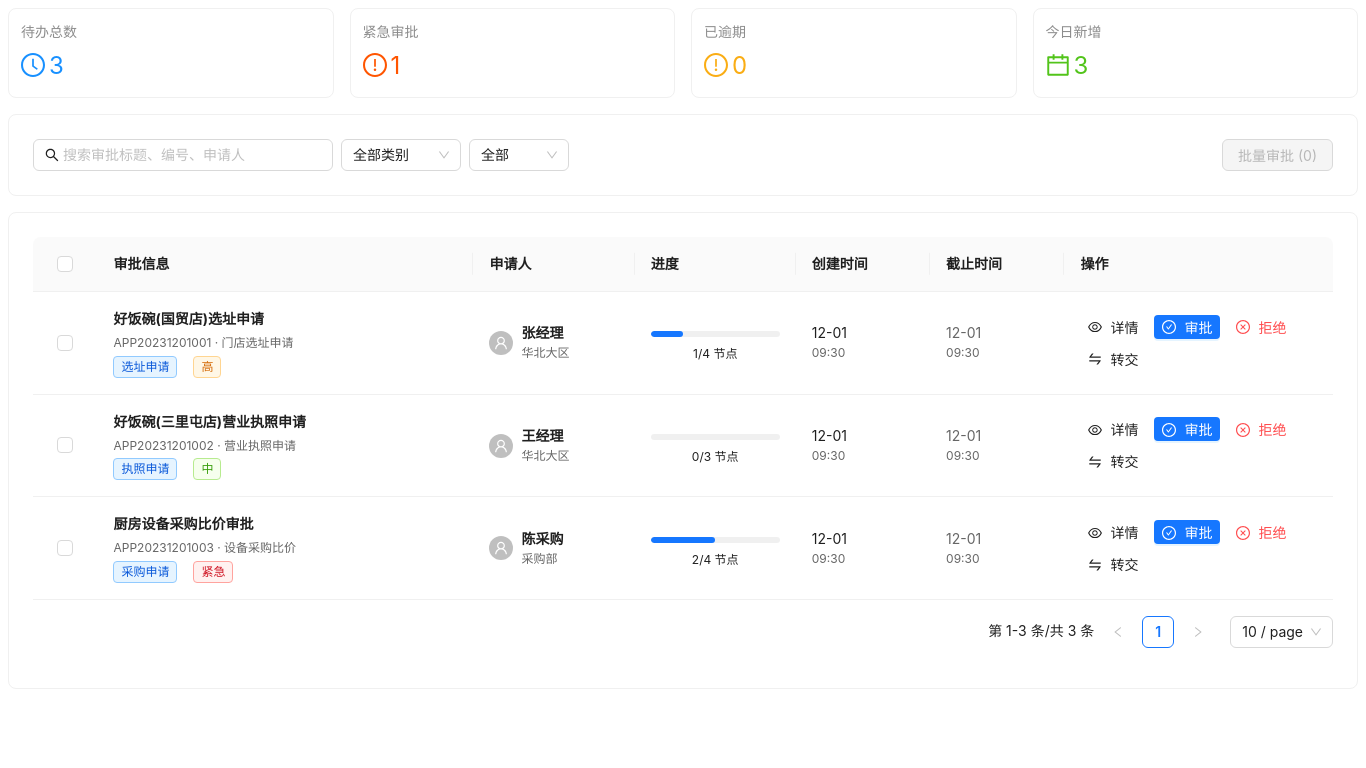
Scenario: PendingApprovals › Search and Filter › should clear search input
Type "国贸" into the field with placeholder "搜索审批标题、编号、申请人" at (192, 155), box left=63, top=144, right=321, bottom=166
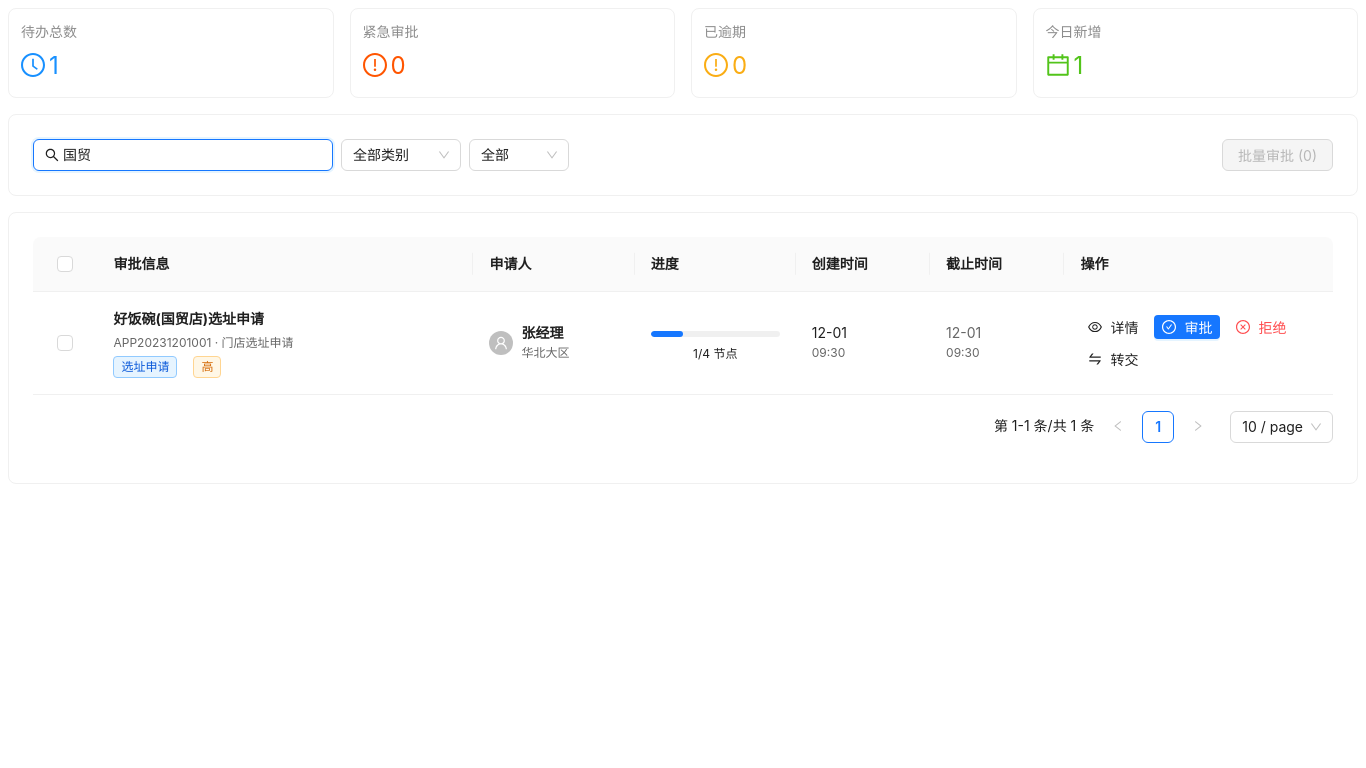
Clear the field with placeholder "搜索审批标题、编号、申请人" at (192, 155), box left=63, top=144, right=321, bottom=166
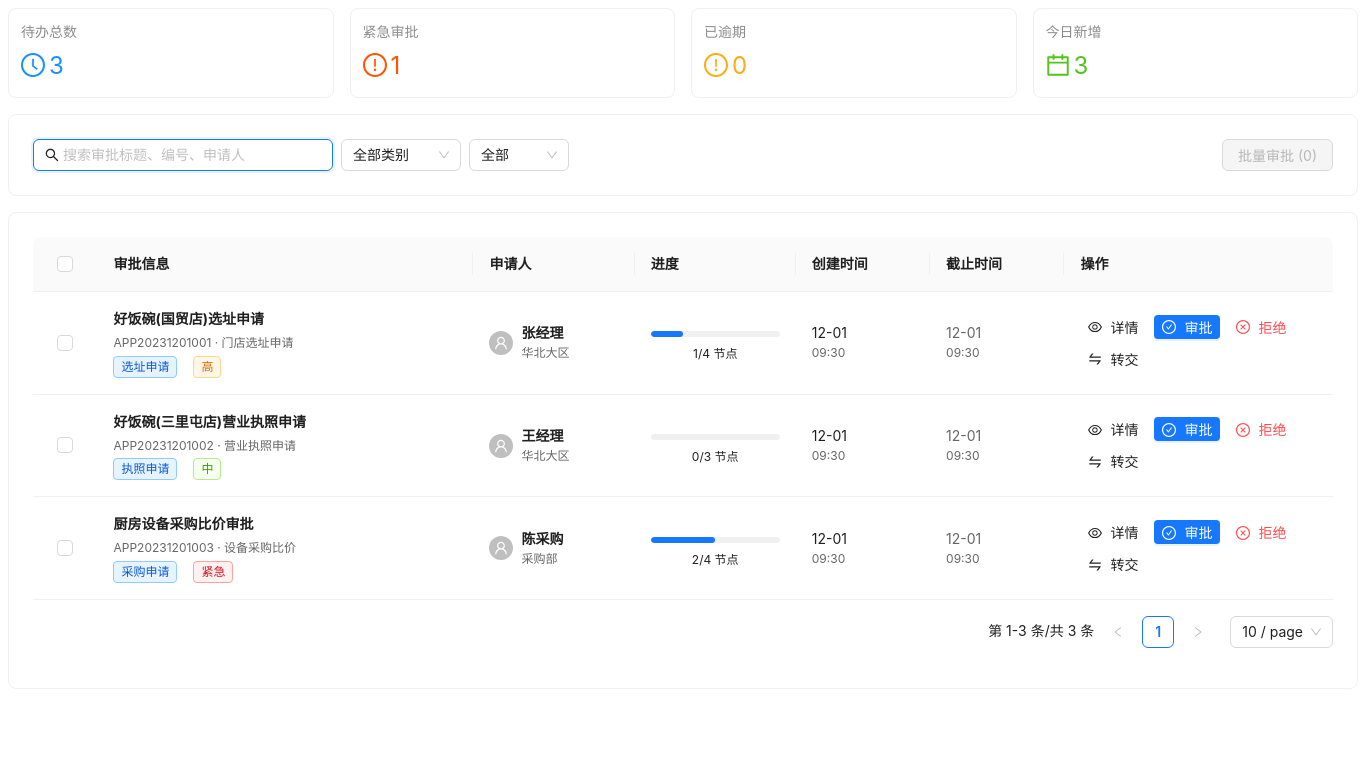
Expected: the text "好饭碗(国贸店)选址申请" is shown, left=114, top=310, right=264, bottom=327
Now the text "好饭碗(三里屯店)营业执照申请" is shown, box left=114, top=412, right=306, bottom=430
